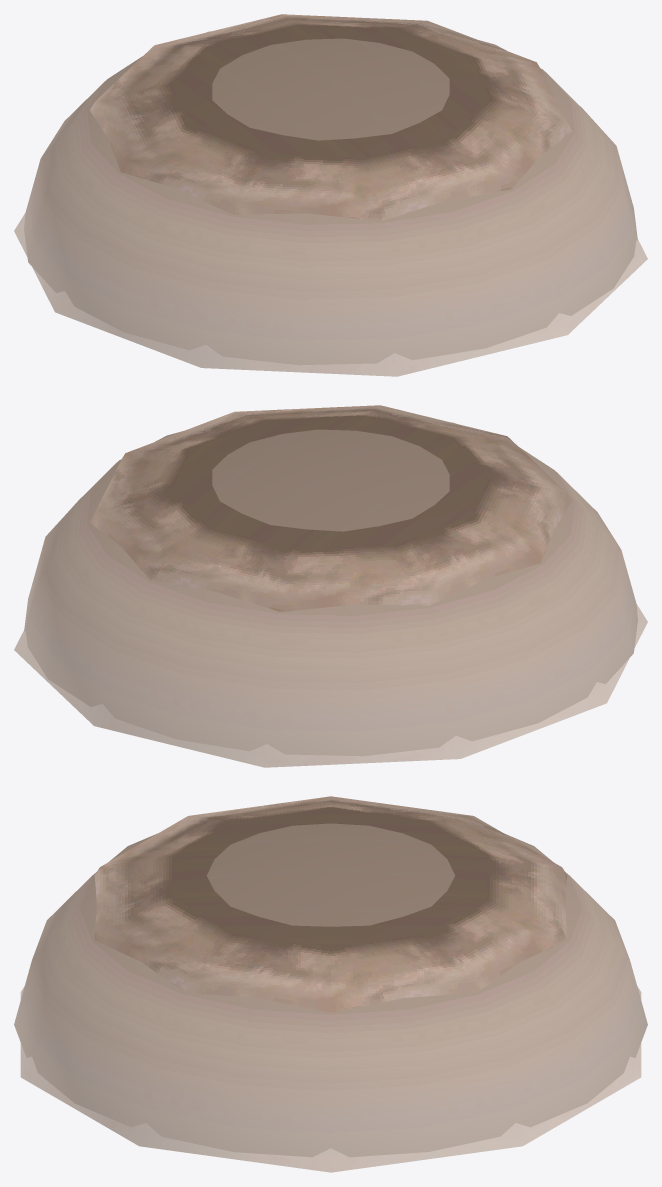
File: stage-indu-sky.glb
The picture shows the model from 3 angles, top to bottom: view 1: azimuth 30°, elevation 25°; view 2: azimuth 150°, elevation 25°; view 3: azimuth 270°, elevation 25°; orthographic projection. The views are drawn at different scales.
Visible parts, largest first — view 1: sky; view 2: sky; view 3: sky.
Part boxes in pixels (x1=…): sky: x1=14, y1=14, x2=647, y2=376; sky: x1=14, y1=405, x2=647, y2=767; sky: x1=14, y1=796, x2=647, y2=1172.
Bounding box in the file's own units: 3660 × 1038 × 3555.
3 materials, 3 textured.
